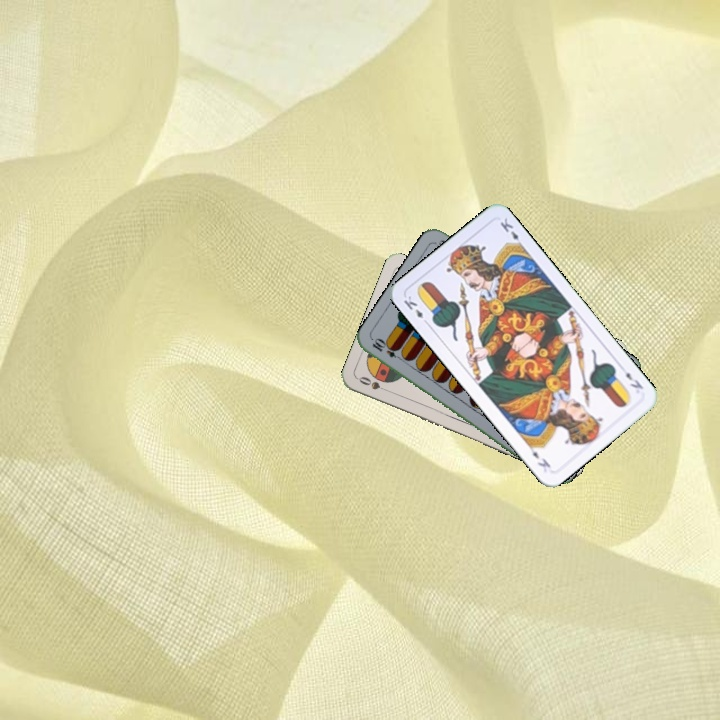E10: (368, 335, 406, 363)
EK: (400, 291, 432, 328), (621, 368, 646, 392)
SO: (354, 372, 393, 395)
